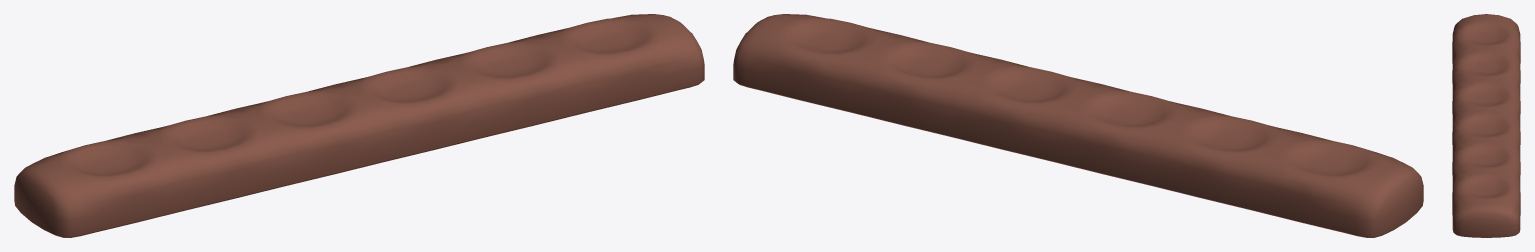
File: Farm_12_Garden_1.glb
3 renders of one model, left to right at view 1: azimuth 30°, elevation 25°; view 2: azimuth 150°, elevation 25°; view 3: azimuth 270°, elevation 25°, orthographic. The views are drawn at different scales.
Parts seen in each view (by area): view 1: Farm_12_Garden_1; view 2: Farm_12_Garden_1; view 3: Farm_12_Garden_1.
Part boxes in pixels (x1=…): Farm_12_Garden_1: x1=14, y1=14, x2=704, y2=237; Farm_12_Garden_1: x1=733, y1=14, x2=1423, y2=237; Farm_12_Garden_1: x1=1452, y1=14, x2=1520, y2=237.
Bounding box in the file's own units: 3.36 × 0.2237 × 0.4839.
Materials: 1 (1 with a texture image).
